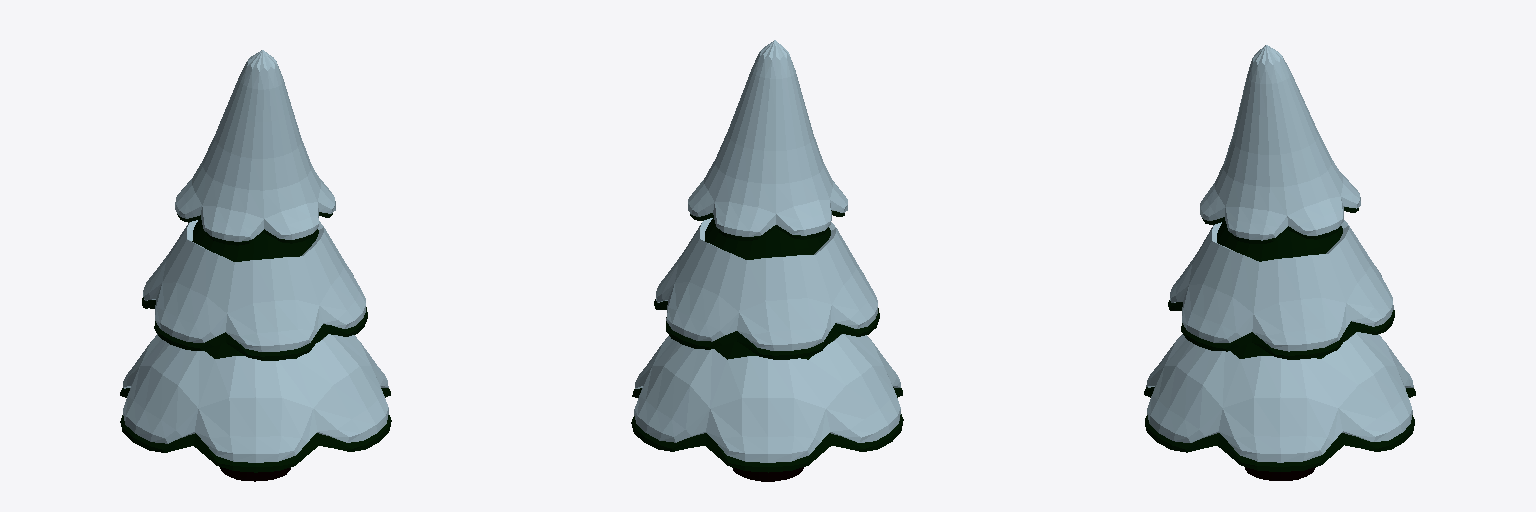
File: Evergreen_3.obj
3 views of the same model, side by side, from view 1: azimuth 30°, elevation 25°; view 2: azimuth 150°, elevation 25°; view 3: azimuth 270°, elevation 25° (orthographic).
Visible parts, largest first — view 1: Snow_on_Tree_3, Tree_3, Trunk_3; view 2: Snow_on_Tree_3, Tree_3, Trunk_3; view 3: Snow_on_Tree_3, Tree_3, Trunk_3.
Boxes of the visible parts, box(x1,y1,x2,y2) form: Snow_on_Tree_3: box(123, 50, 388, 462); Tree_3: box(120, 212, 391, 472); Trunk_3: box(220, 467, 290, 481); Snow_on_Tree_3: box(634, 40, 900, 462); Tree_3: box(631, 210, 903, 472); Trunk_3: box(732, 467, 803, 481); Snow_on_Tree_3: box(1146, 45, 1413, 462); Tree_3: box(1144, 207, 1415, 471); Trunk_3: box(1245, 467, 1315, 480).
Bounding box in the file's own units: 0.6002 × 0.9784 × 0.571.